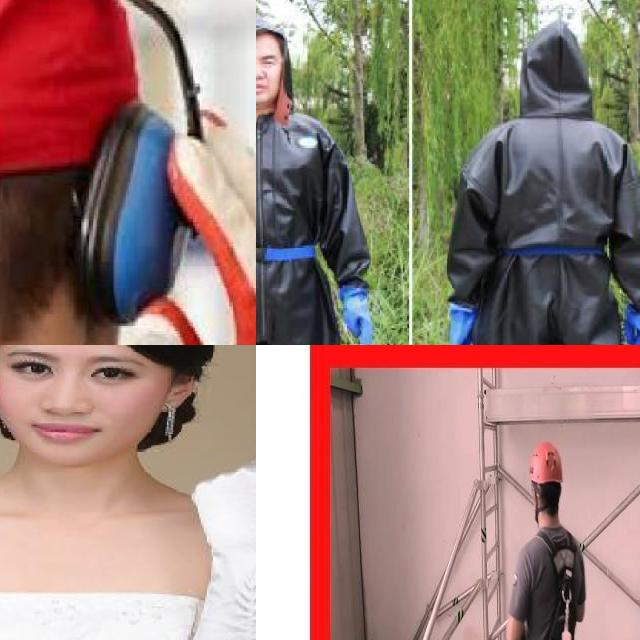Ear-protection: (66, 98, 202, 324)
Harness: (539, 533, 575, 640)
No_Glasses: (0, 345, 150, 401)
face_nomask: (0, 345, 147, 469), (256, 44, 282, 113)
hand_glove: (135, 104, 256, 345), (193, 432, 256, 557), (339, 290, 378, 345), (446, 302, 473, 345), (621, 307, 640, 345)
head_nohelmet: (523, 15, 584, 74), (256, 21, 287, 50)
person: (0, 345, 256, 640), (419, 22, 640, 345), (256, 4, 392, 345)
